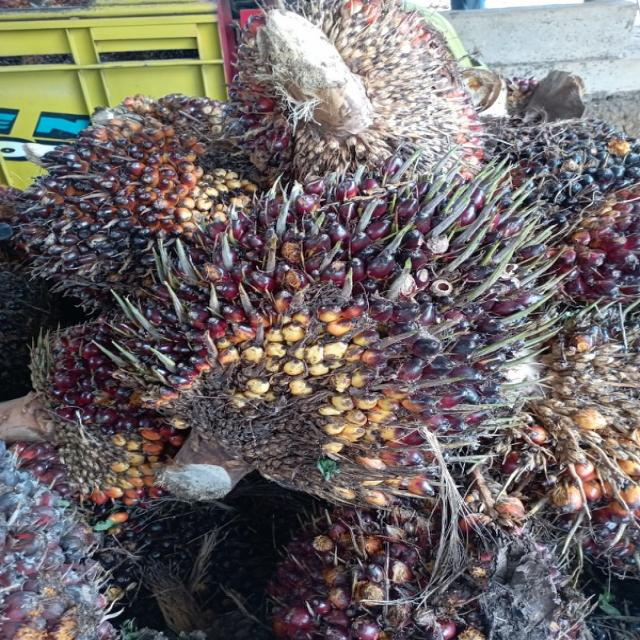fraksi 00: (123, 157, 567, 496), (26, 97, 280, 295)
